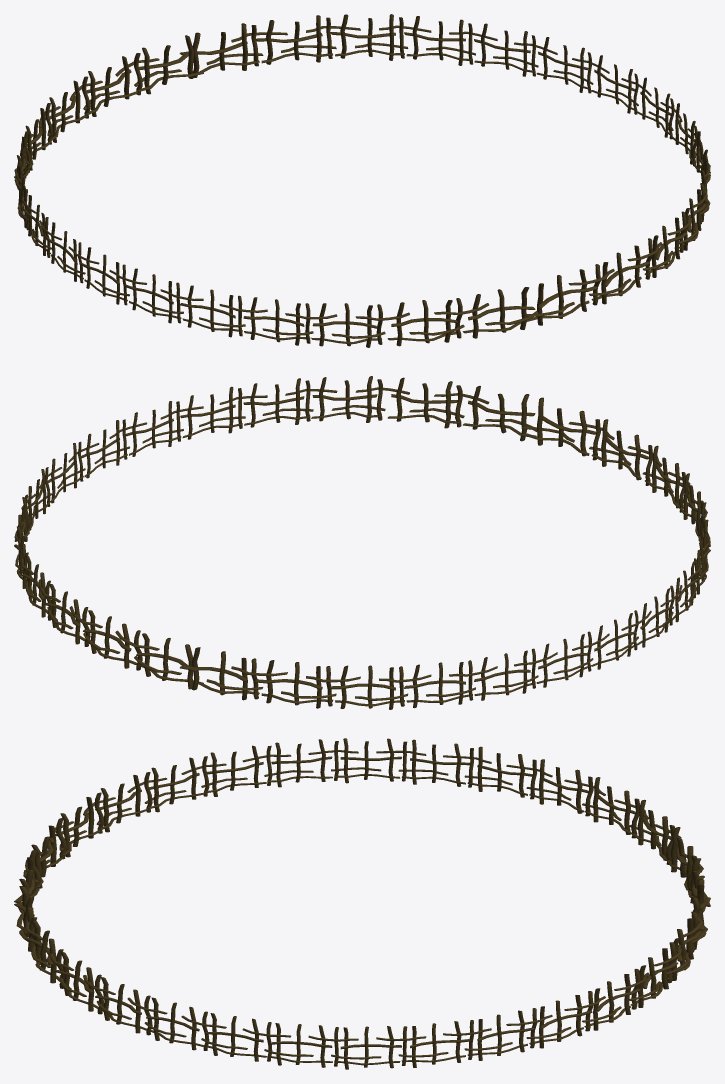
File: fence.fbx
3 renders of one model, top to bottom at view 1: azimuth 30°, elevation 25°; view 2: azimuth 150°, elevation 25°; view 3: azimuth 270°, elevation 25°, orthographic.
Parts seen in each view (by area): view 1: polySurface172; view 2: polySurface172; view 3: polySurface172.
Boxes of the visible parts, x1,y1,x2,y2 form: polySurface172: [14, 14, 710, 347]; polySurface172: [14, 376, 710, 709]; polySurface172: [14, 738, 710, 1069].
Bounding box in the file's own units: 286 × 19.89 × 290.
